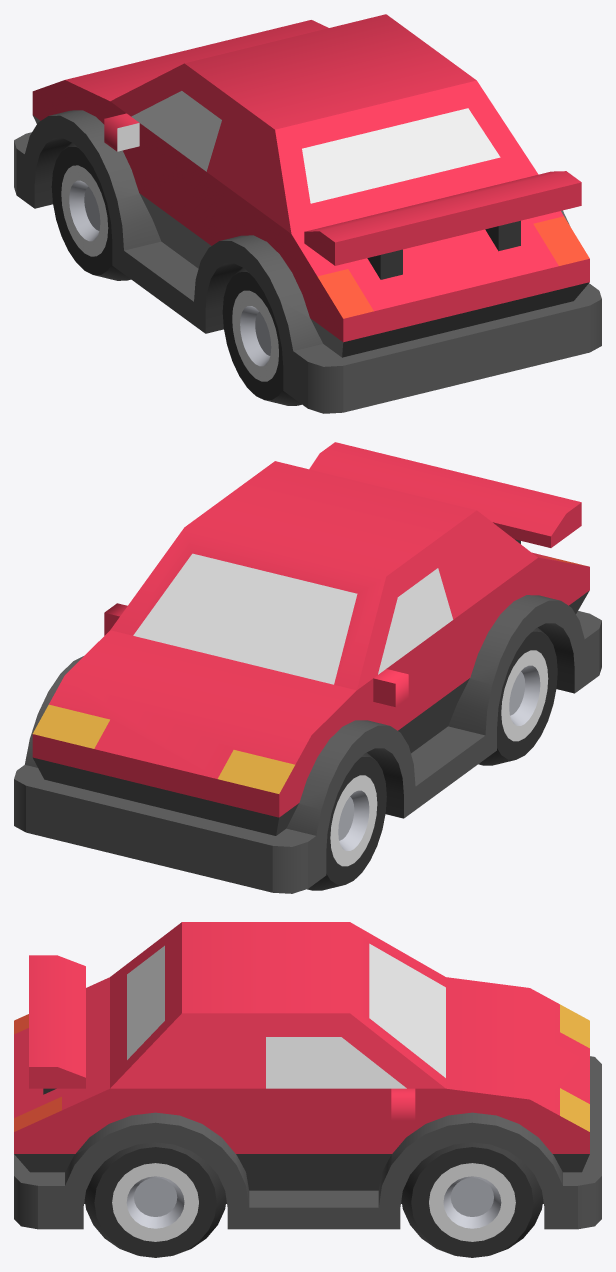
Rendered from sedanSports.glb.
3 views of the same model, one above another, from view 1: azimuth 30°, elevation 25°; view 2: azimuth 150°, elevation 25°; view 3: azimuth 270°, elevation 25° (orthographic). The views are drawn at different scales.
Parts seen in each view (by area): view 1: body, spoiler, wheel_backLeft, wheel_frontLeft; view 2: body, spoiler, wheel_frontLeft, wheel_backLeft; view 3: body, wheel_backRight, wheel_frontRight, spoiler.
Part boxes in pixels (left/top/right/bottom): body: left=14, top=14, right=601, bottom=413; spoiler: left=304, top=171, right=581, bottom=279; wheel_backLeft: left=222, top=267, right=301, bottom=405; wheel_frontLeft: left=51, top=142, right=130, bottom=280; body: left=14, top=461, right=601, bottom=893; spoiler: left=309, top=442, right=581, bottom=547; wheel_frontLeft: left=307, top=752, right=386, bottom=890; wheel_backLeft: left=478, top=627, right=557, bottom=765; body: left=14, top=922, right=601, bottom=1229; wheel_backRight: left=84, top=1142, right=226, bottom=1257; wheel_frontRight: left=401, top=1142, right=543, bottom=1257; spoiler: left=29, top=955, right=85, bottom=1094.
Bounding box in the file's own units: 1.3 × 1.1 × 2.45.
